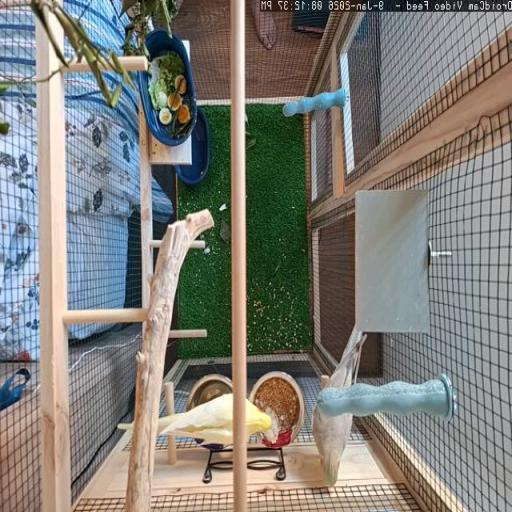bebedero: (186, 373, 232, 410)
comedero: (250, 371, 304, 447)
ninfa: (159, 395, 233, 443), (313, 405, 351, 485), (326, 331, 366, 389), (246, 399, 271, 432)
